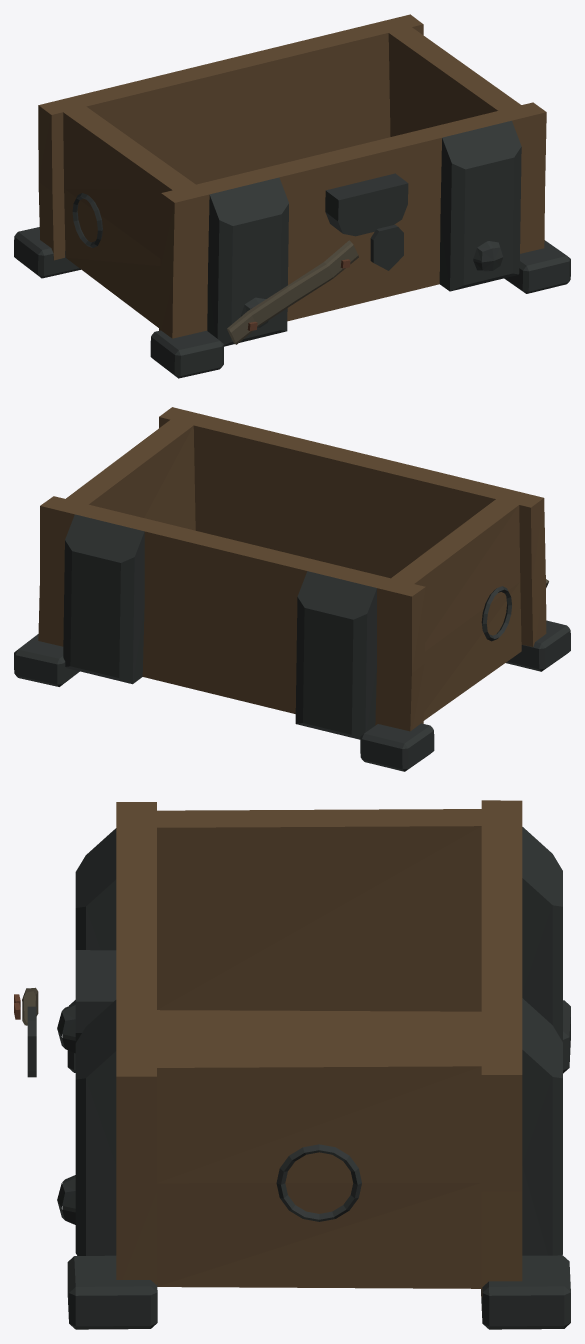
Rendered from common-body.glb.
3 views of the same model, one above another, from view 1: azimuth 30°, elevation 25°; view 2: azimuth 150°, elevation 25°; view 3: azimuth 270°, elevation 25° (orthographic). The views are drawn at different scales.
Parts seen in each view (by area): view 1: Wood, Iron; view 2: Wood, Iron; view 3: Wood, Iron.
Boxes of the visible parts, x1=… form: Wood: x1=38, y1=14, x2=546, y2=344; Iron: x1=14, y1=120, x2=570, y2=378; Wood: x1=38, y1=407, x2=548, y2=731; Iron: x1=14, y1=514, x2=570, y2=771; Wood: x1=22, y1=800, x2=522, y2=1296; Iron: x1=14, y1=827, x2=570, y2=1329.
Bounding box in the file's own units: 0.98 × 0.3705 × 0.7545.
